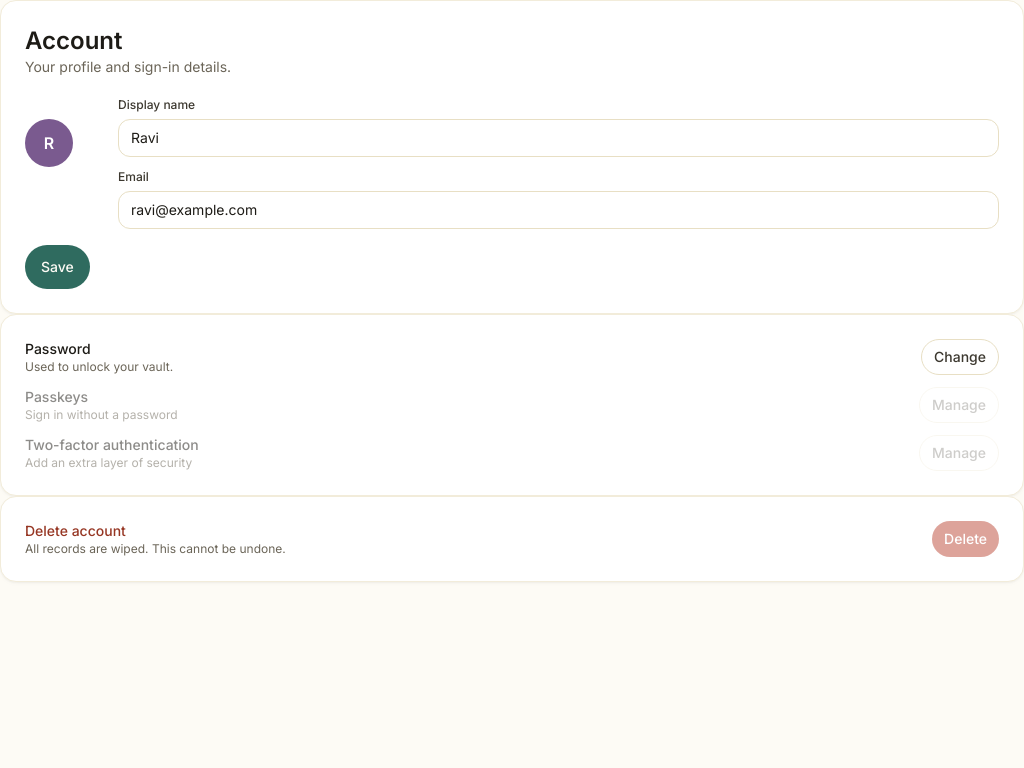
Test case: Account › shows saved confirmation after successful save
Click the button "Save": (57, 267) [25,245,90,289]
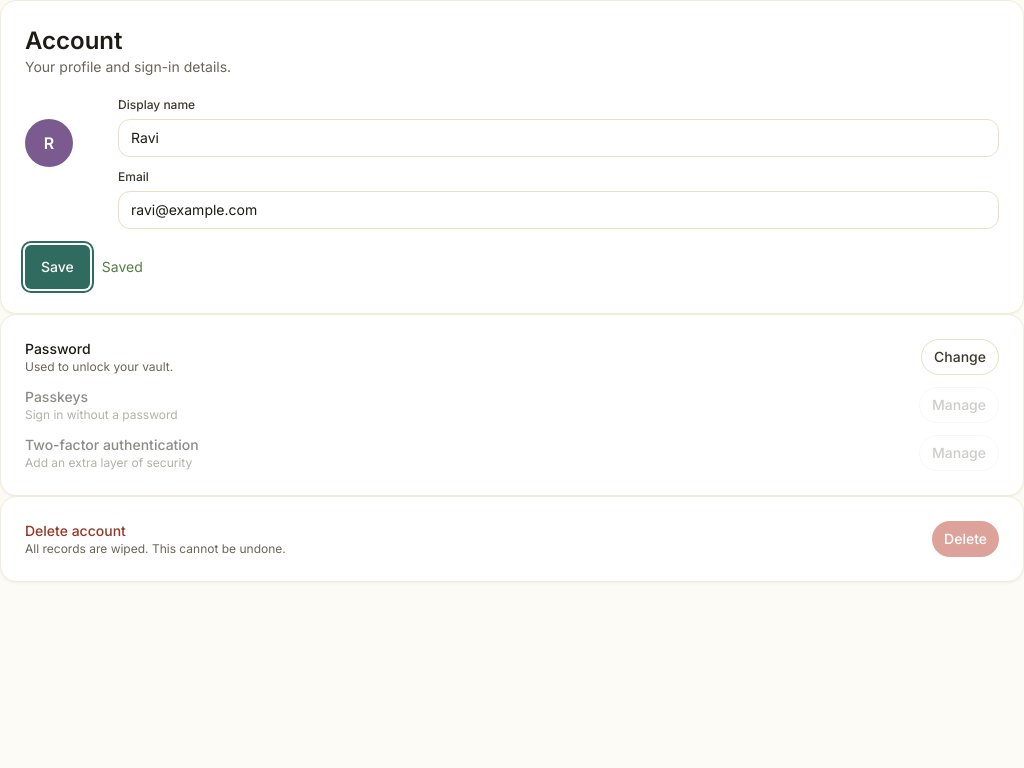
Check: the text "Saved" is shown, box [102,257,143,277]
